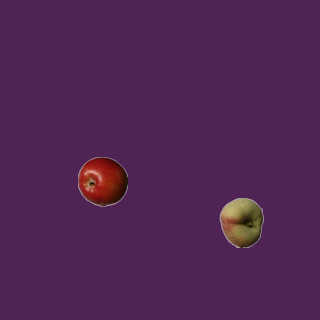Apple Braeburn: (77, 156, 127, 206)
Peach Flat: (216, 197, 266, 247)
